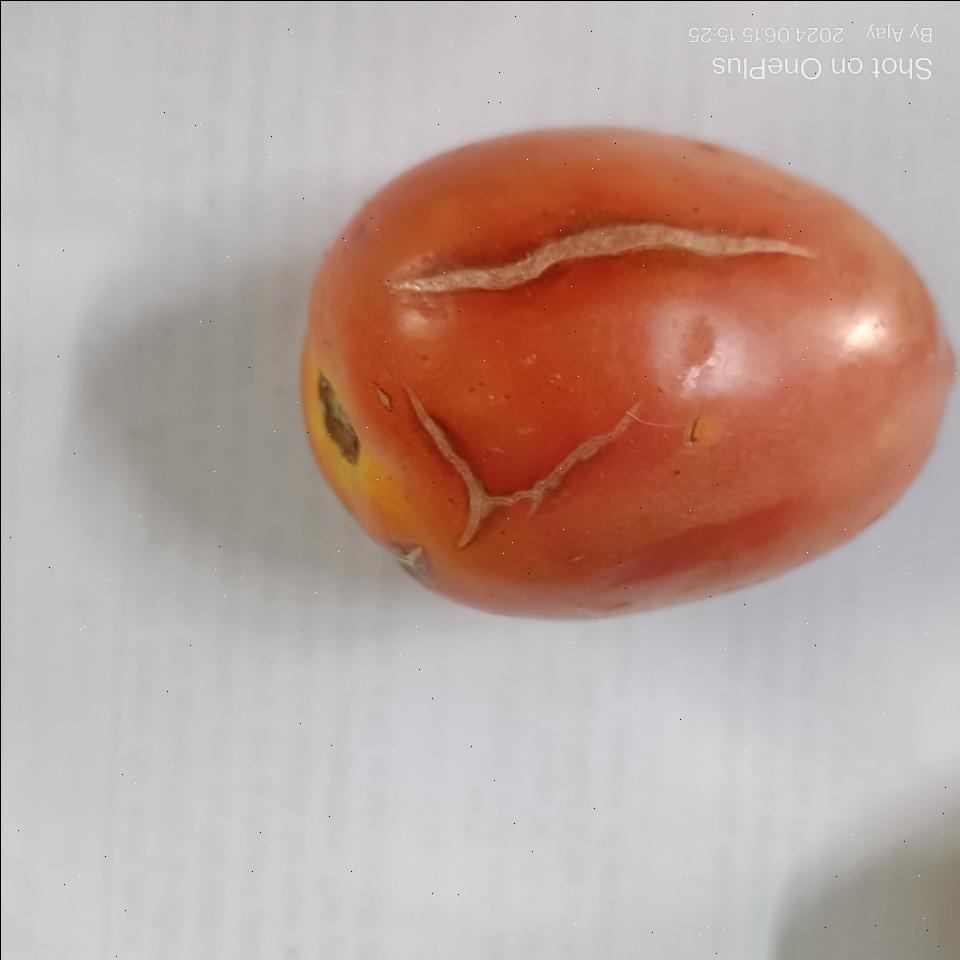Cracking: (400, 397, 617, 574), (369, 219, 827, 299)
